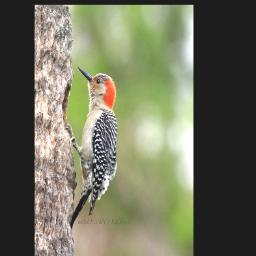Woodpecker: (67, 62, 123, 239)
